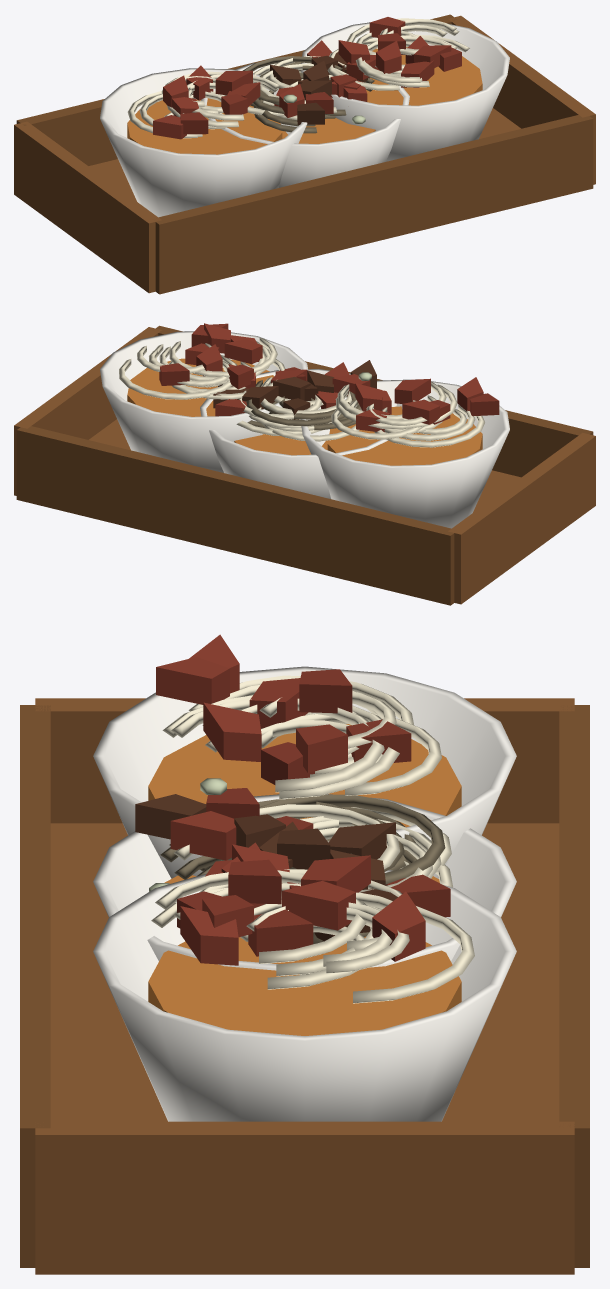
File: Noodle_Meat.fbx
3 views of the same model, one above another, from view 1: azimuth 30°, elevation 25°; view 2: azimuth 150°, elevation 25°; view 3: azimuth 270°, elevation 25° (orthographic). The views are drawn at different scales.
Parts seen in each view (by area): view 1: Noodle_Meat__Stack, Noodle_Meat, Noodle_Meat__Rotten; view 2: Noodle_Meat__Stack, Noodle_Meat, Noodle_Meat__Rotten; view 3: Noodle_Meat__Stack, Noodle_Meat, Noodle_Meat__Rotten.
Boxes of the visible parts, x1,y1,x2,y2 form: Noodle_Meat__Stack: (14,14,595,294); Noodle_Meat: (201,40,409,187); Noodle_Meat__Rotten: (242,51,374,133); Noodle_Meat__Stack: (14,323,595,605); Noodle_Meat: (200,362,402,498); Noodle_Meat__Rotten: (213,360,376,430); Noodle_Meat__Stack: (20,634,589,1274); Noodle_Meat: (93,788,516,970); Noodle_Meat__Rotten: (135,778,445,944).
Size of the model in its own units: 0.268 by 0.0756 by 0.148.
